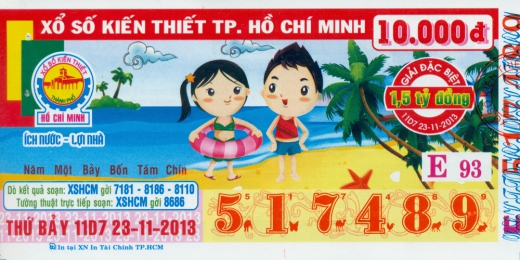serial_zone: (203, 190, 497, 242)
